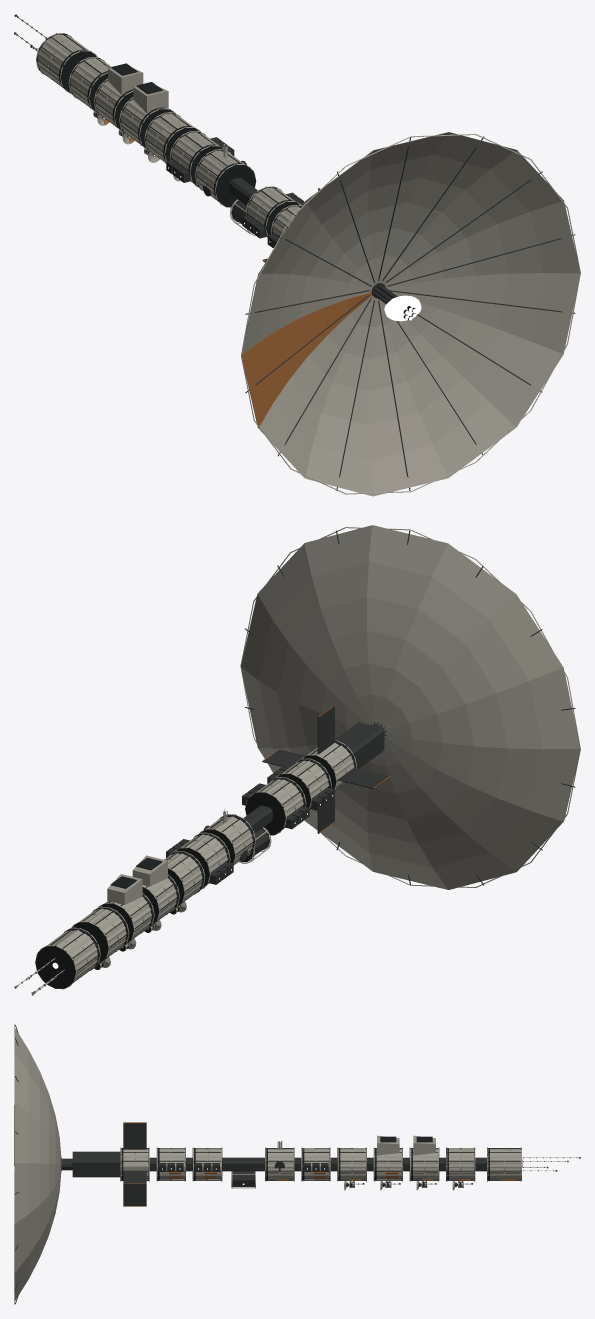
3 views of the same model, one above another, from view 1: azimuth 30°, elevation 25°; view 2: azimuth 150°, elevation 25°; view 3: azimuth 270°, elevation 25° (orthographic). The views are drawn at different scales.
Parts seen in each view (by area): view 1: RIMWARD_HULL, RIMWARD_ENGINE_GLOW; view 2: RIMWARD_HULL; view 3: RIMWARD_HULL.
Part boxes in pixels (x1,y1,x2,y2): RIMWARD_HULL: [14, 14, 580, 496]; RIMWARD_ENGINE_GLOW: [384, 295, 421, 321]; RIMWARD_HULL: [14, 525, 580, 995]; RIMWARD_HULL: [14, 1024, 580, 1304].
Bounding box in the file's own units: 40.94 × 40.94 × 82.58.
